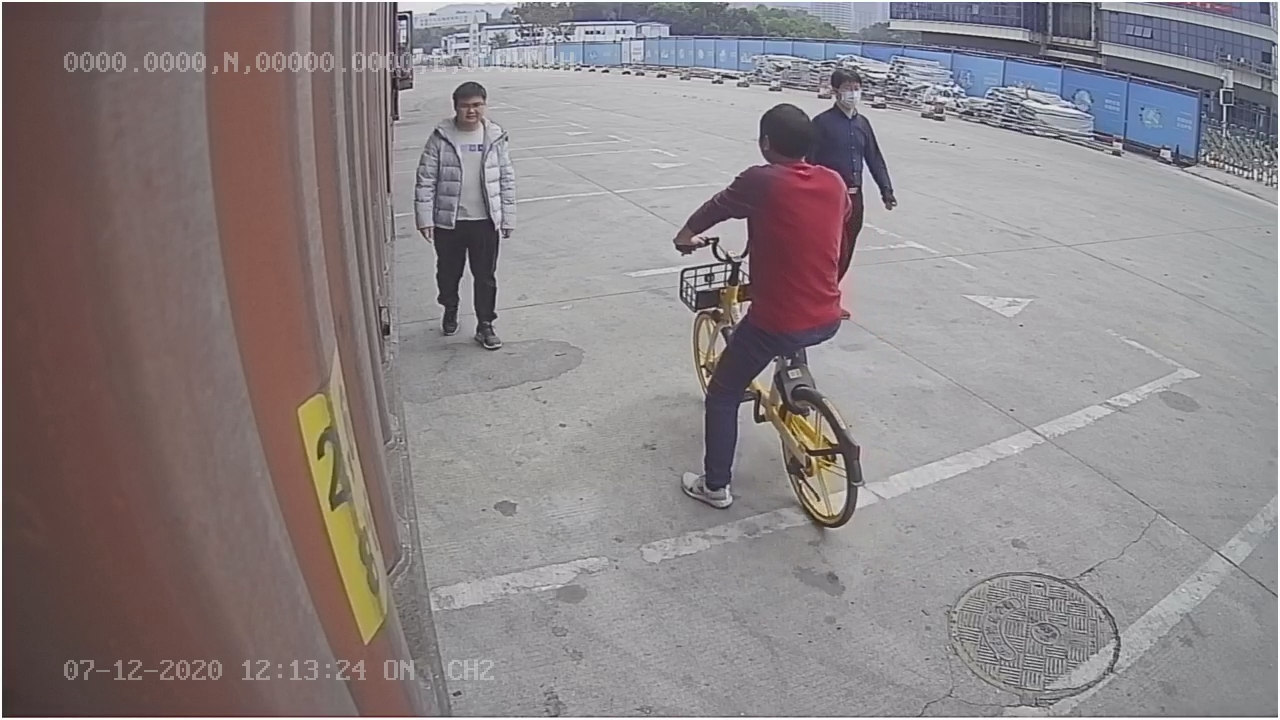person: (415, 77, 519, 351)
